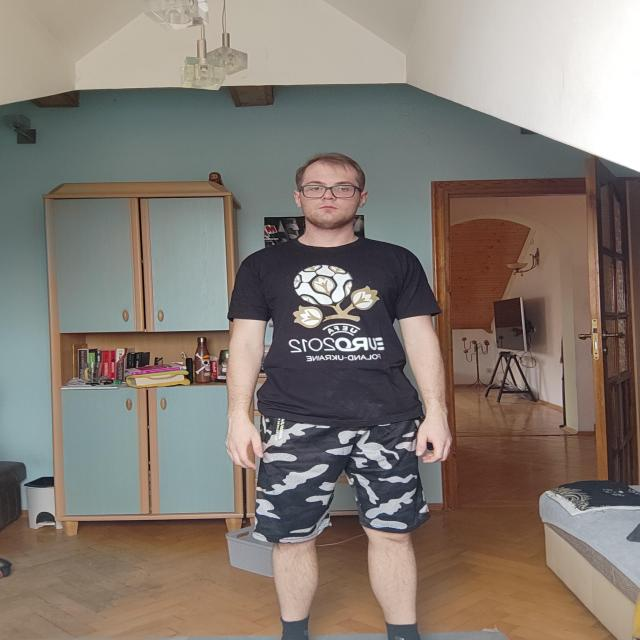Tshirt: (226, 236, 443, 427)
short: (254, 400, 431, 543)
